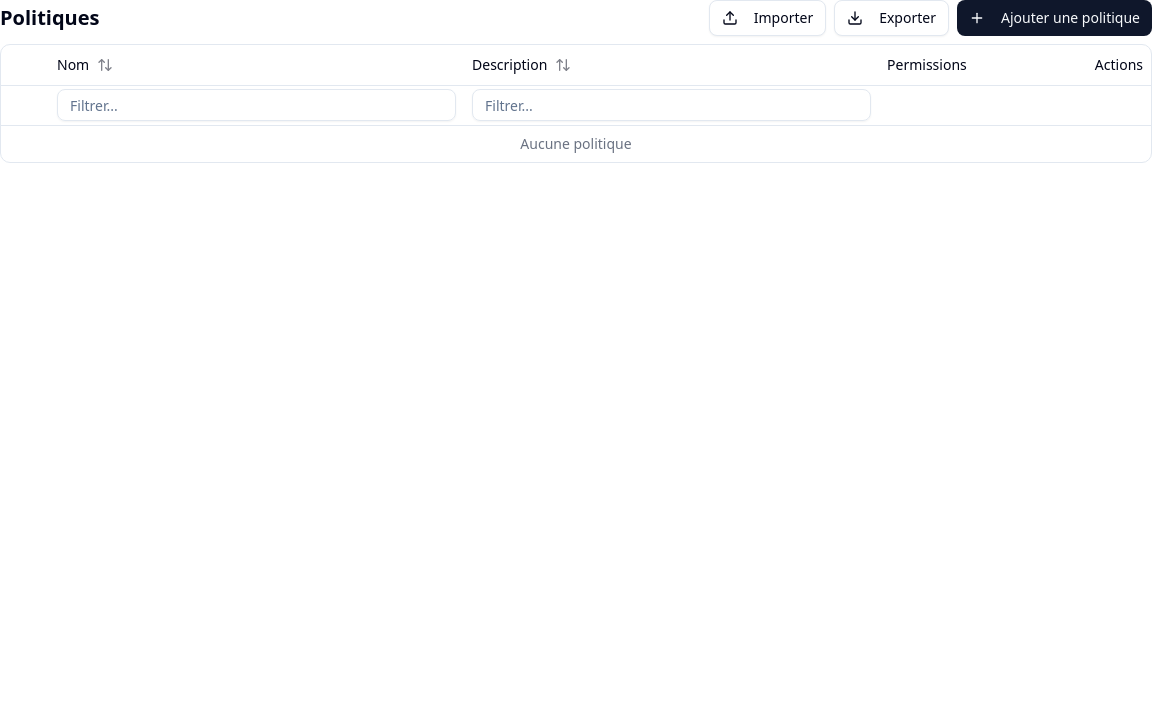
Test: Policies Component › Policy CRUD Operations › should open create policy dialog when add button is clicked
The image size is (1152, 720).
Click the button with test id "policies-add-button": (1054,18) [957,0,1151,36]
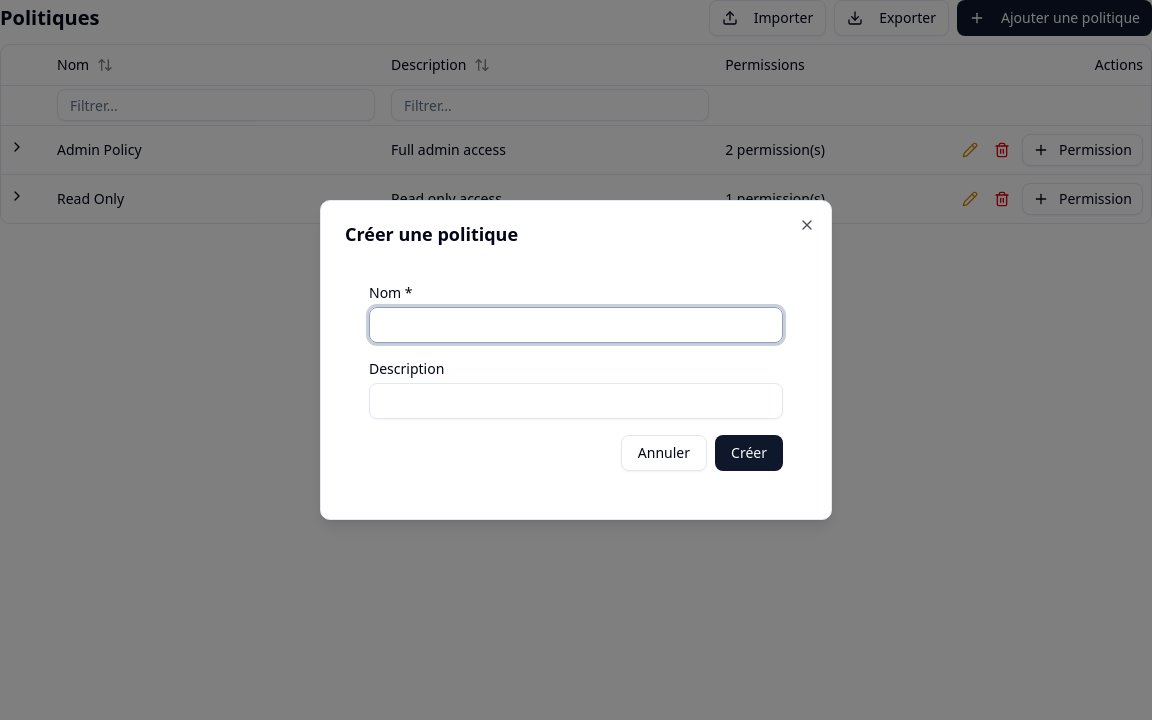
Expected: the dialog with test id "policy-dialog" is shown, [320,200,832,520]
Expected: the heading with test id "policy-dialog-title" reads "Créer une politique", [345,222,518,246]
